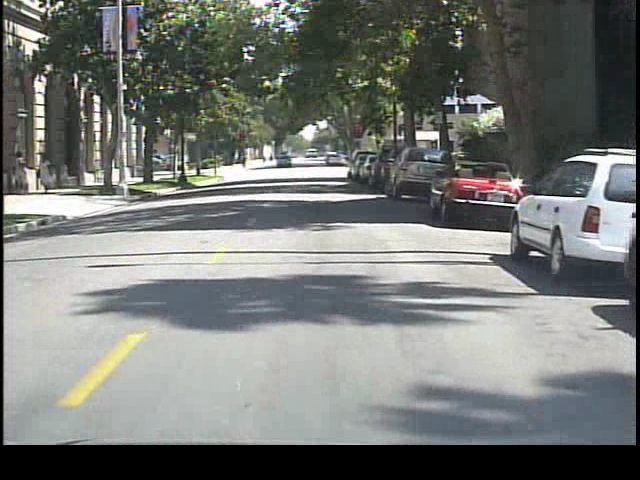person: (34, 152, 60, 196), (13, 147, 33, 193)
